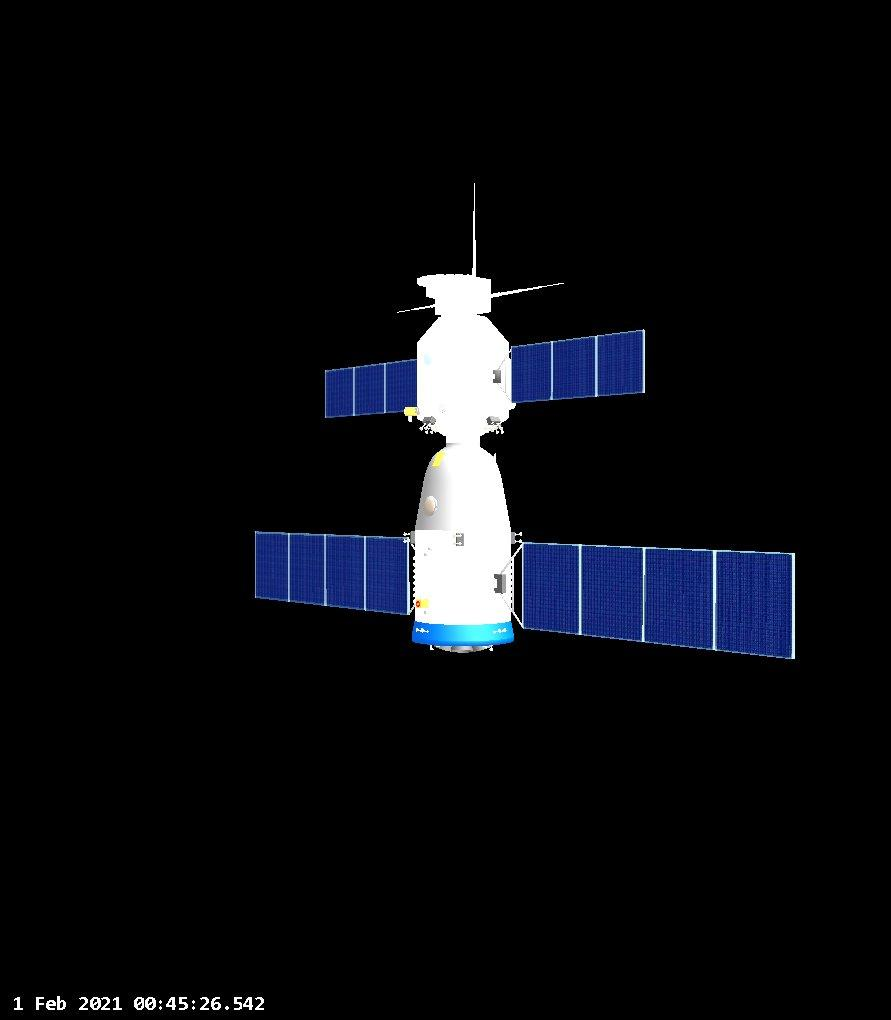antenna: (484, 281, 568, 300), (416, 272, 482, 291), (470, 181, 480, 280), (394, 303, 445, 316)
body: (409, 276, 515, 647)
solar: (495, 541, 797, 663), (252, 530, 413, 617), (510, 328, 646, 405), (322, 354, 418, 422)
thruster: (435, 643, 490, 655), (418, 422, 427, 431), (498, 425, 505, 435), (420, 627, 430, 634), (424, 422, 431, 431), (429, 426, 436, 435), (492, 628, 502, 634), (424, 426, 431, 434), (451, 534, 465, 538), (514, 531, 523, 537), (488, 643, 494, 652), (494, 425, 499, 435), (402, 538, 412, 543), (514, 539, 523, 544), (429, 644, 435, 651), (402, 532, 412, 536), (452, 541, 462, 545), (500, 628, 507, 633), (415, 627, 421, 632)
